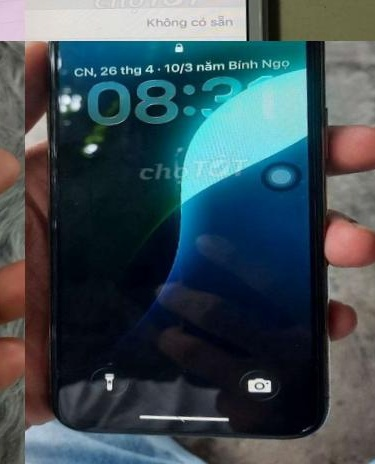scratch: (37, 133, 61, 182), (37, 310, 62, 344), (290, 418, 319, 436), (44, 211, 59, 232)
